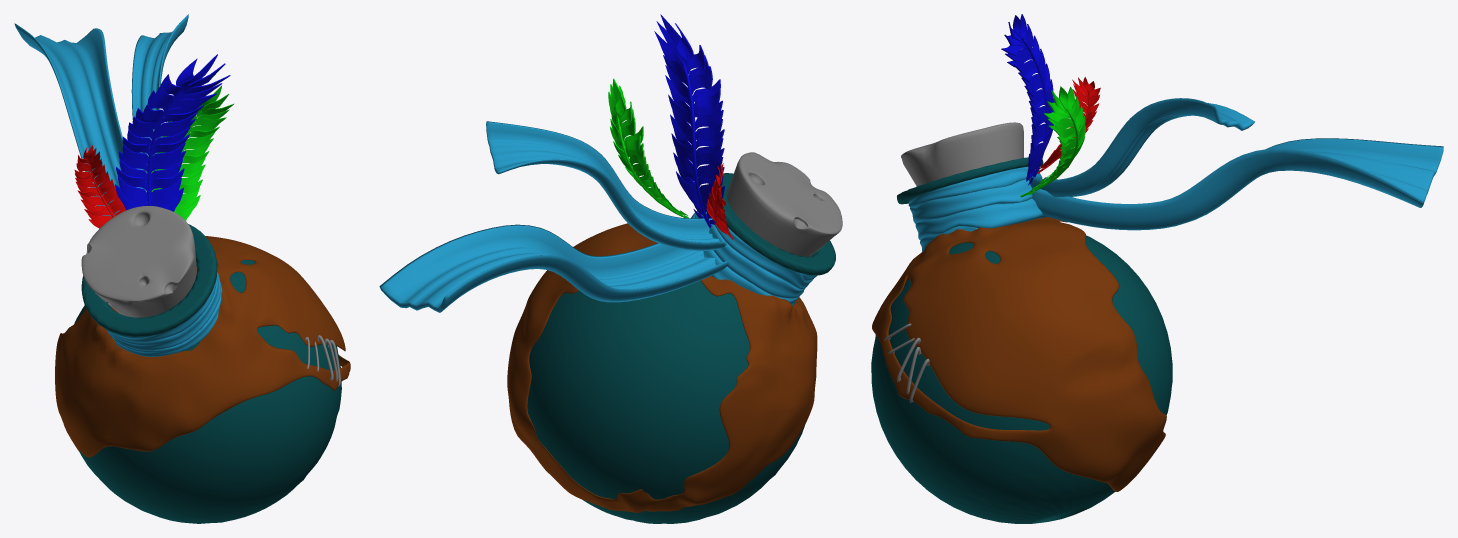
Rendered from Potion.fbx.
3 renders of one model, left to right at view 1: azimuth 30°, elevation 25°; view 2: azimuth 150°, elevation 25°; view 3: azimuth 270°, elevation 25°, orthographic. The views are drawn at different scales.
Parts seen in each view (by area): view 1: Box001, Sphere001, Cylinder001, feather 1, Loft002, feather 3, Loft001, Loft003, feather 2; view 2: Sphere001, Box001, Loft002, Loft003, Cylinder001, feather 1, Loft001, feather 3, feather 2; view 3: Box001, Sphere001, Loft002, Loft001, Loft003, Cylinder001, feather 1, feather 3, feather 2.
Part boxes in pixels (left/top/right/bottom): Box001: left=55, top=236, right=350, bottom=457; Sphere001: left=74, top=224, right=341, bottom=523; Cylinder001: left=81, top=206, right=196, bottom=317; feather 1: left=115, top=54, right=230, bottom=211; Loft002: left=14, top=23, right=123, bottom=216; feather 3: left=151, top=85, right=233, bottom=220; Loft001: left=107, top=272, right=222, bottom=356; Loft003: left=131, top=14, right=188, bottom=202; feather 2: left=74, top=145, right=125, bottom=228; Sphere001: left=527, top=173, right=835, bottom=523; Box001: left=507, top=223, right=817, bottom=512; Loft002: left=379, top=224, right=729, bottom=312; Loft003: left=486, top=121, right=726, bottom=250; Cylinder001: left=726, top=152, right=842, bottom=256; feather 1: left=654, top=14, right=724, bottom=227; Loft001: left=691, top=210, right=817, bottom=305; feather 3: left=608, top=78, right=688, bottom=218; feather 2: left=706, top=163, right=733, bottom=239; Box001: left=872, top=217, right=1166, bottom=491; Sphere001: left=871, top=157, right=1172, bottom=523; Loft002: left=1032, top=138, right=1443, bottom=230; Loft001: left=908, top=166, right=1047, bottom=251; Loft003: left=1029, top=98, right=1254, bottom=197; Cylinder001: left=901, top=122, right=1023, bottom=186; feather 1: left=1001, top=14, right=1054, bottom=184; feather 3: left=1020, top=86, right=1085, bottom=197; feather 2: left=1037, top=77, right=1100, bottom=173.
Size of the model in its own units: 128 by 214 by 225.
